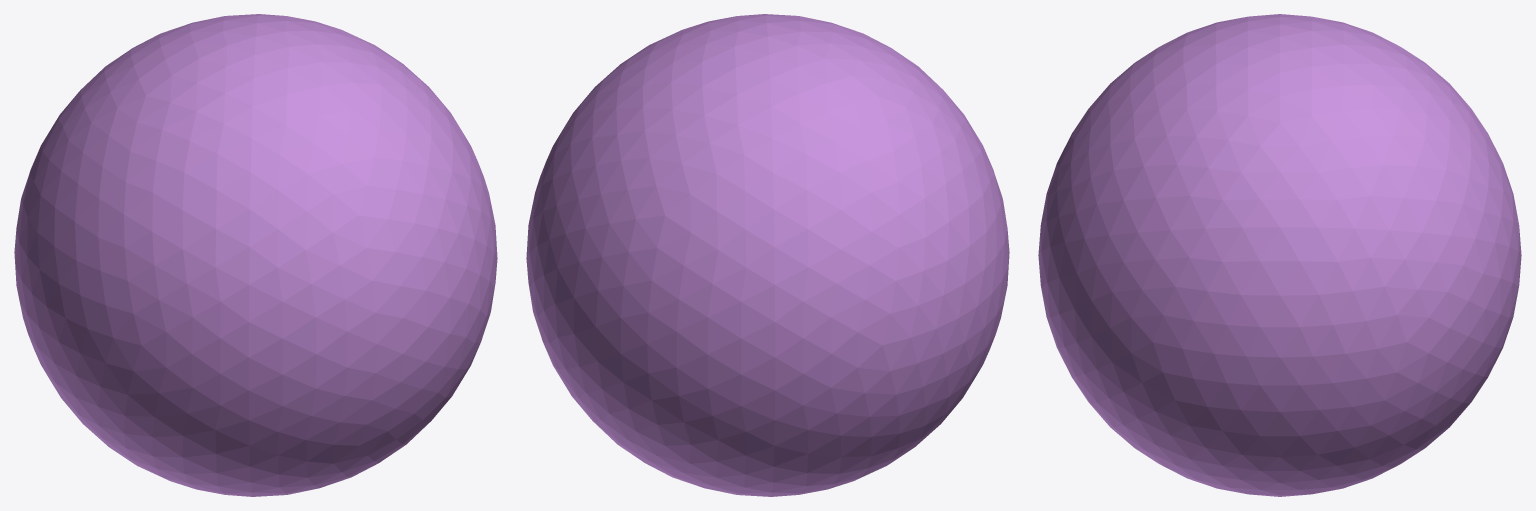
3 renders of one model, left to right at view 1: azimuth 30°, elevation 25°; view 2: azimuth 150°, elevation 25°; view 3: azimuth 270°, elevation 25°, orthographic.
Parts seen in each view (by area): view 1: world; view 2: world; view 3: world.
Boxes of the visible parts, bbox=[...] form: world: bbox=[14, 14, 497, 496]; world: bbox=[526, 14, 1009, 496]; world: bbox=[1038, 14, 1521, 496].
Size of the model in its own units: 3 by 3 by 3.
